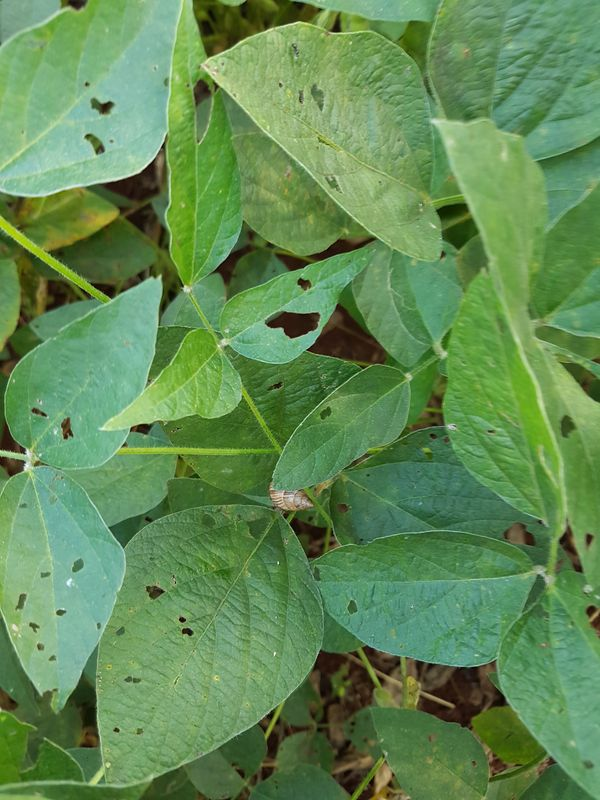Gastropoda: (258, 470, 322, 521)
